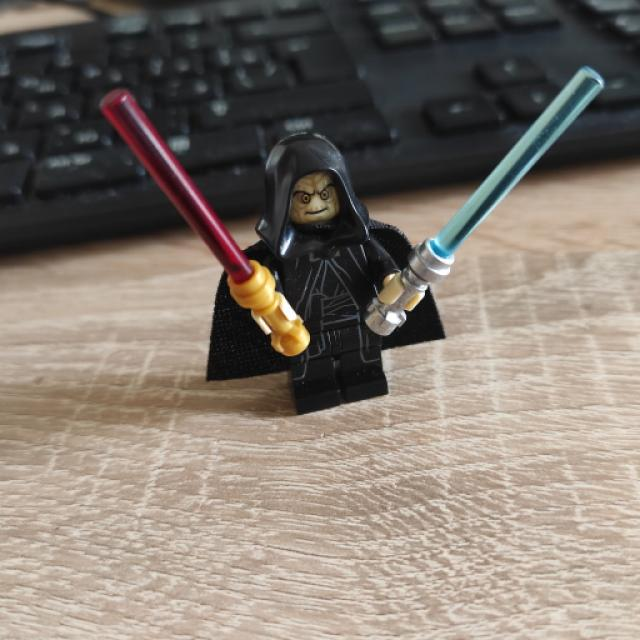Lego-Minifigures: (178, 107, 492, 432)
